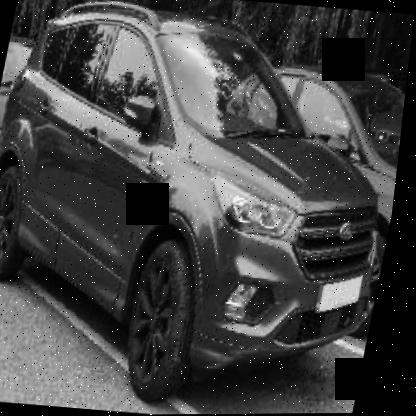not_emergency: (0, 3, 415, 410)
